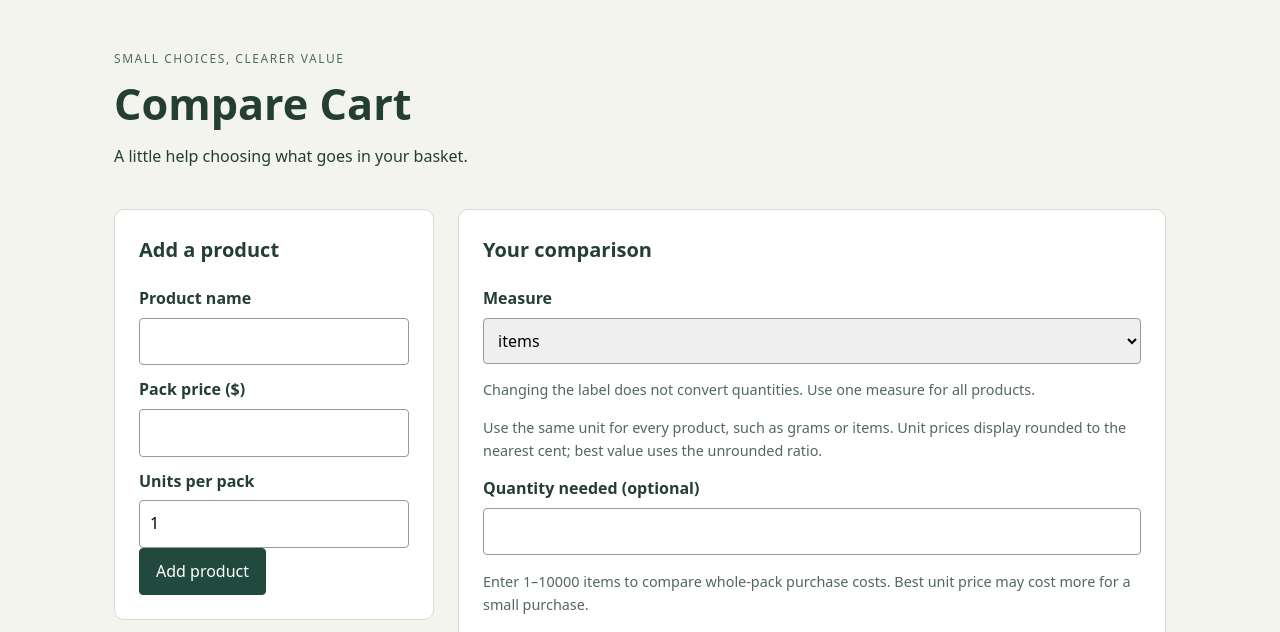
Scenario: keeps stale-tab edits in session without overwriting external storage
Type "New" into the field labelled "Product name". click: (274, 342)
box: [139,318,409,366]
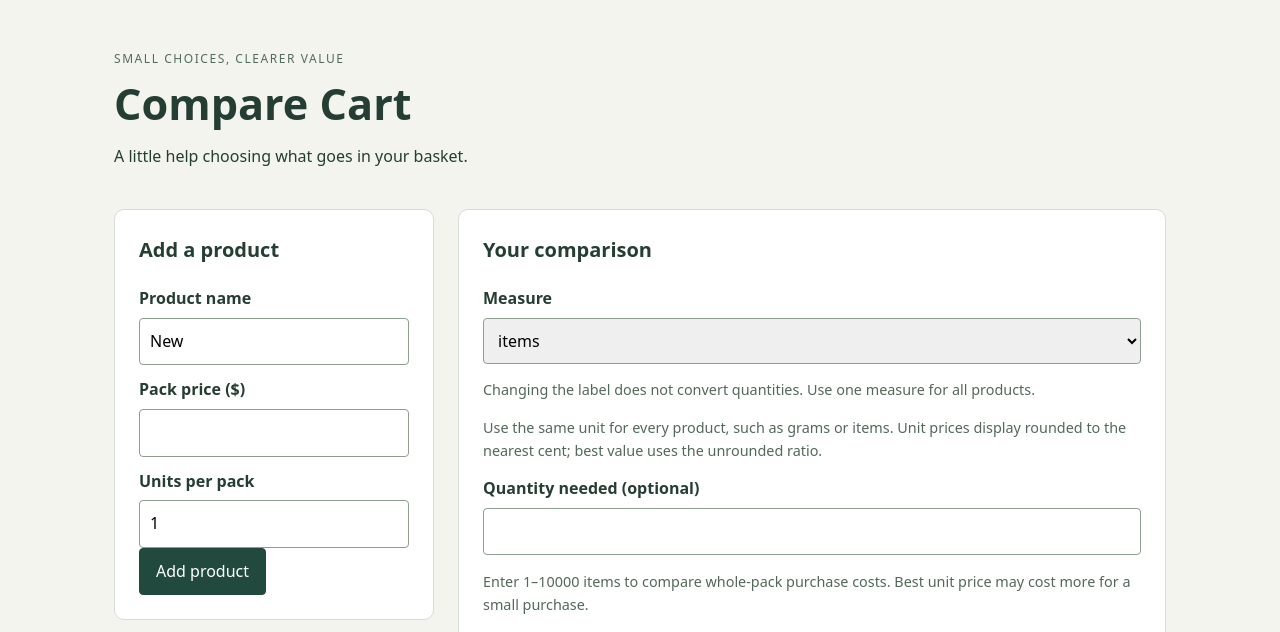
Type "2" into the field labelled "Pack price ($)". click: (274, 433)
box: [139,409,409,457]
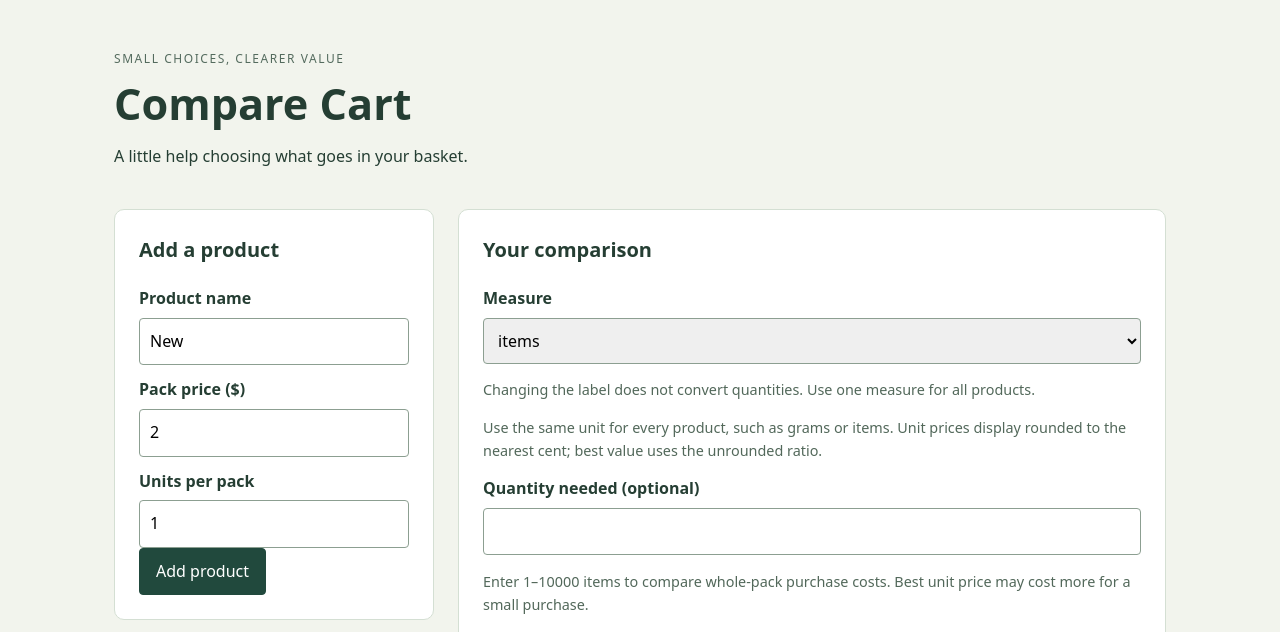
Click the button "Add product". click: click(203, 572)
box: [139,548,266,596]
(page scrolled)
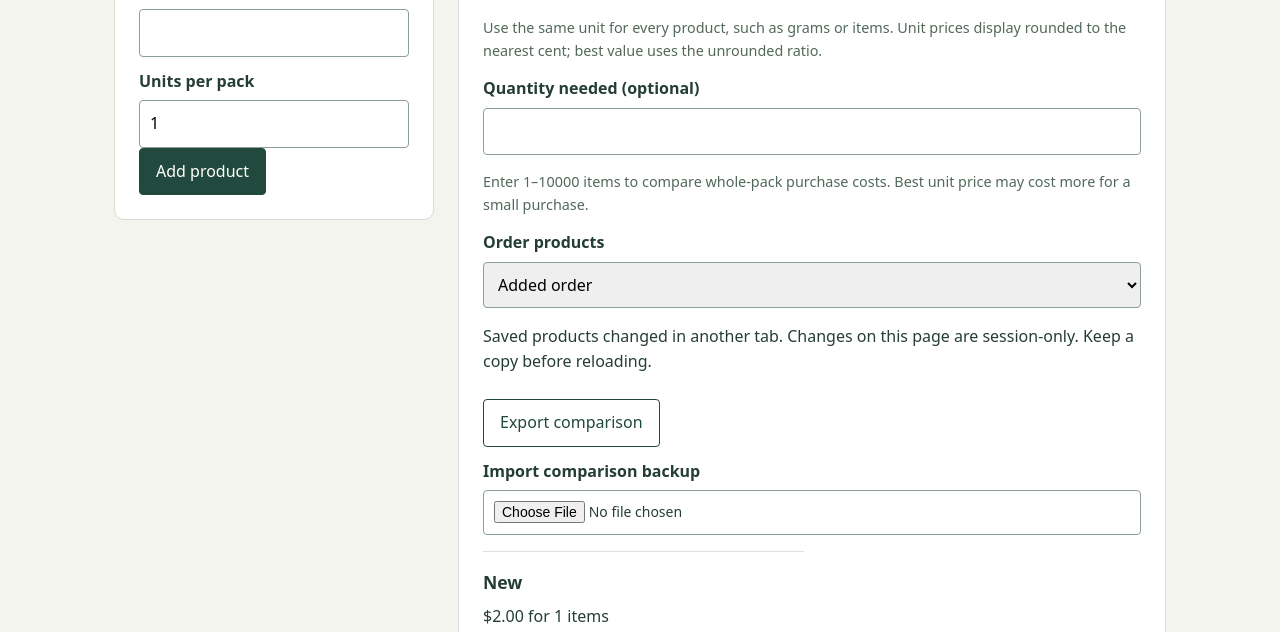
Result: the heading "New" is shown at [483,570,522,594]
Result: the text "changed in another tab" is shown at [483,325,1134,372]
